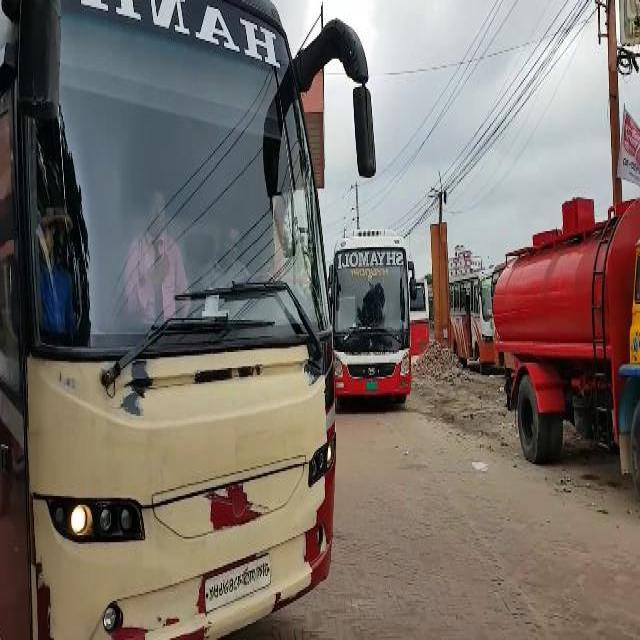Bus: (21, 0, 331, 640), (331, 218, 416, 400)
Truck: (493, 206, 640, 450)
